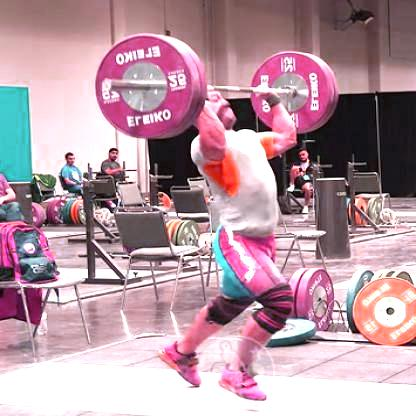Barbell: (98, 75, 118, 95)
